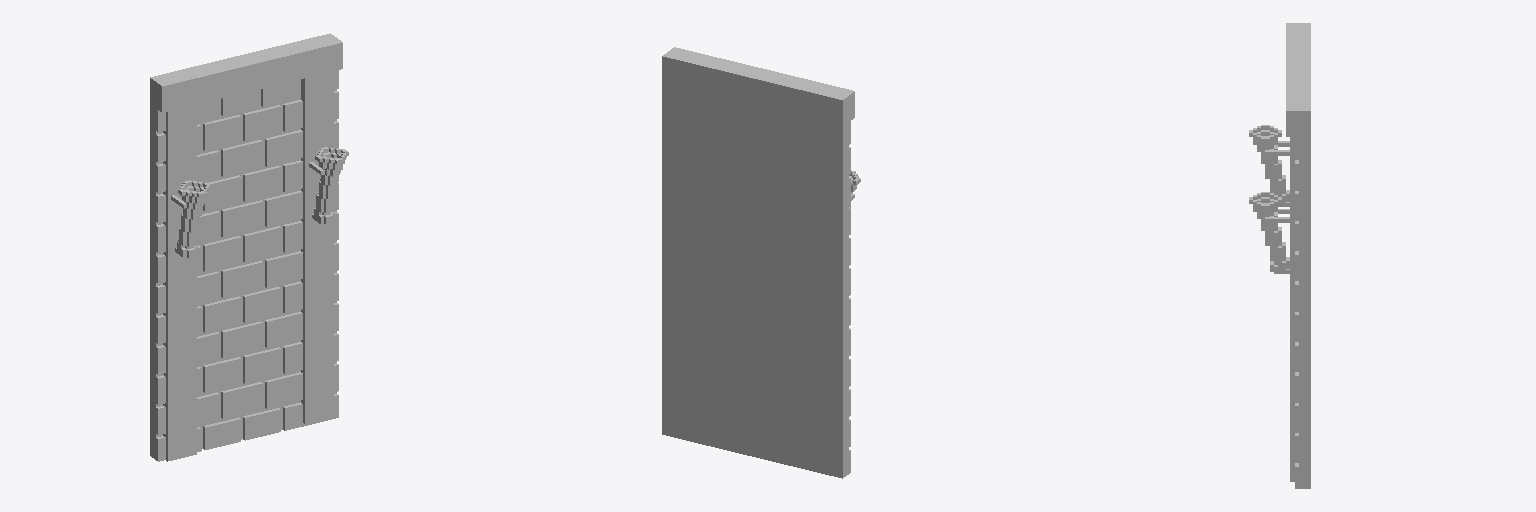
The model's file is starter wall with bracing and tourch.obj.
3 views of the same model, side by side, from view 1: azimuth 30°, elevation 25°; view 2: azimuth 150°, elevation 25°; view 3: azimuth 270°, elevation 25° (orthographic).
Visible parts, largest first — view 1: starter wall with bracing and tourch; view 2: starter wall with bracing and tourch; view 3: starter wall with bracing and tourch.
Part boxes in pixels (x1,y1,x2,y2): starter wall with bracing and tourch: (150, 33, 348, 461); starter wall with bracing and tourch: (662, 47, 860, 478); starter wall with bracing and tourch: (1249, 23, 1310, 488).
Bounding box in the file's own units: 50 × 100 × 15.